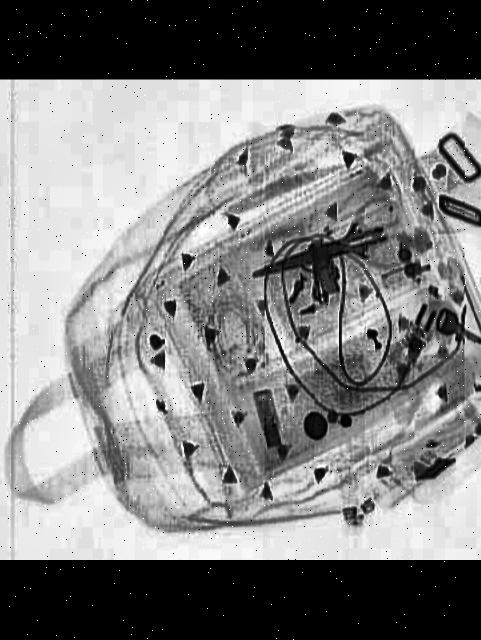Knife: (238, 212, 391, 293)
